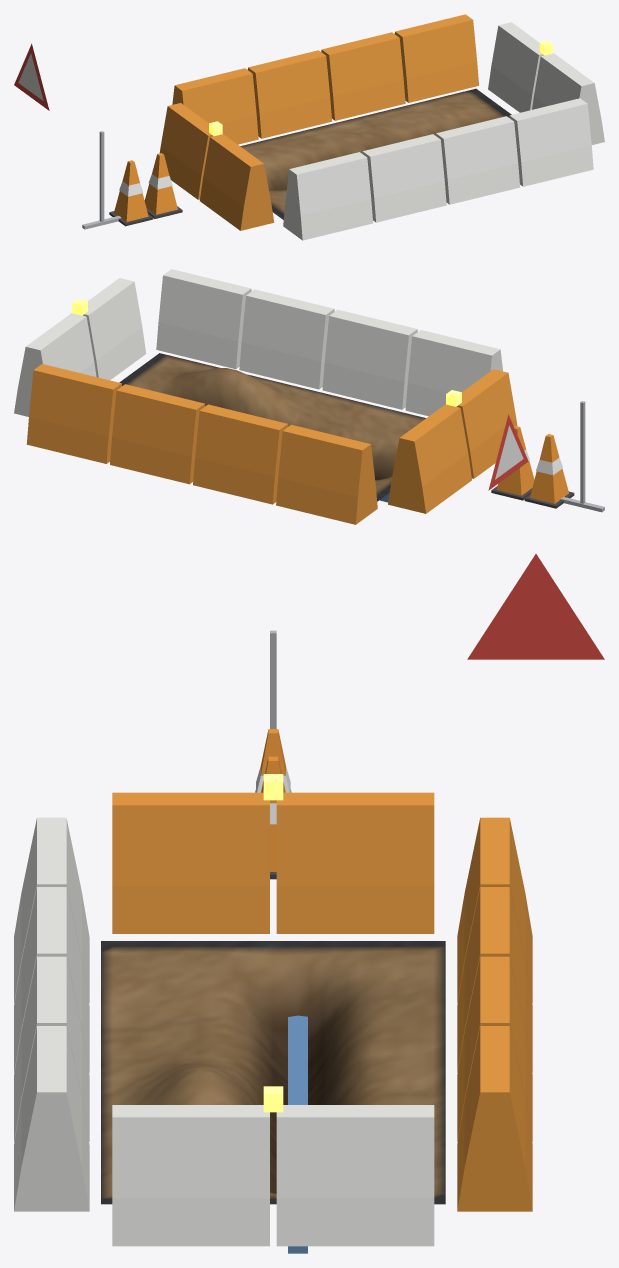
The model's file is barrier.glb.
3 views of the same model, one above another, from view 1: azimuth 30°, elevation 25°; view 2: azimuth 150°, elevation 25°; view 3: azimuth 270°, elevation 25° (orthographic). The views are drawn at different scales.
Visible parts, largest first — view 1: Excavation behind barriers; view 2: Excavation behind barriers; view 3: Excavation behind barriers.
Boxes of the visible parts, x1,y1,x2,y2 form: Excavation behind barriers: (14, 14, 604, 240); Excavation behind barriers: (14, 269, 604, 524); Excavation behind barriers: (14, 554, 604, 1253).
Bounding box in the file's own units: 6.53 × 2.18 × 3.6.
